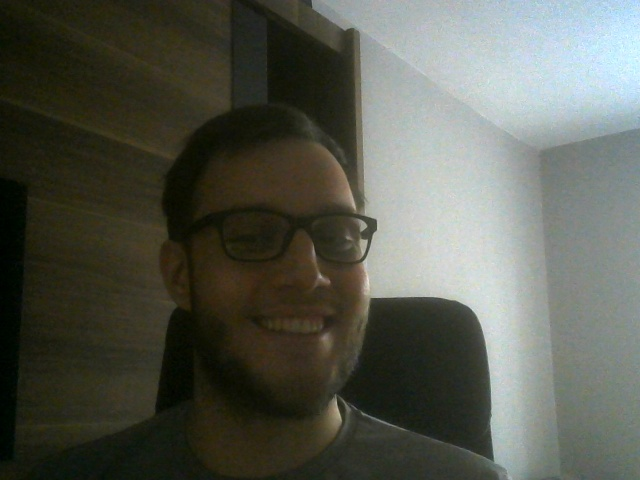happy: (158, 104, 374, 413)
